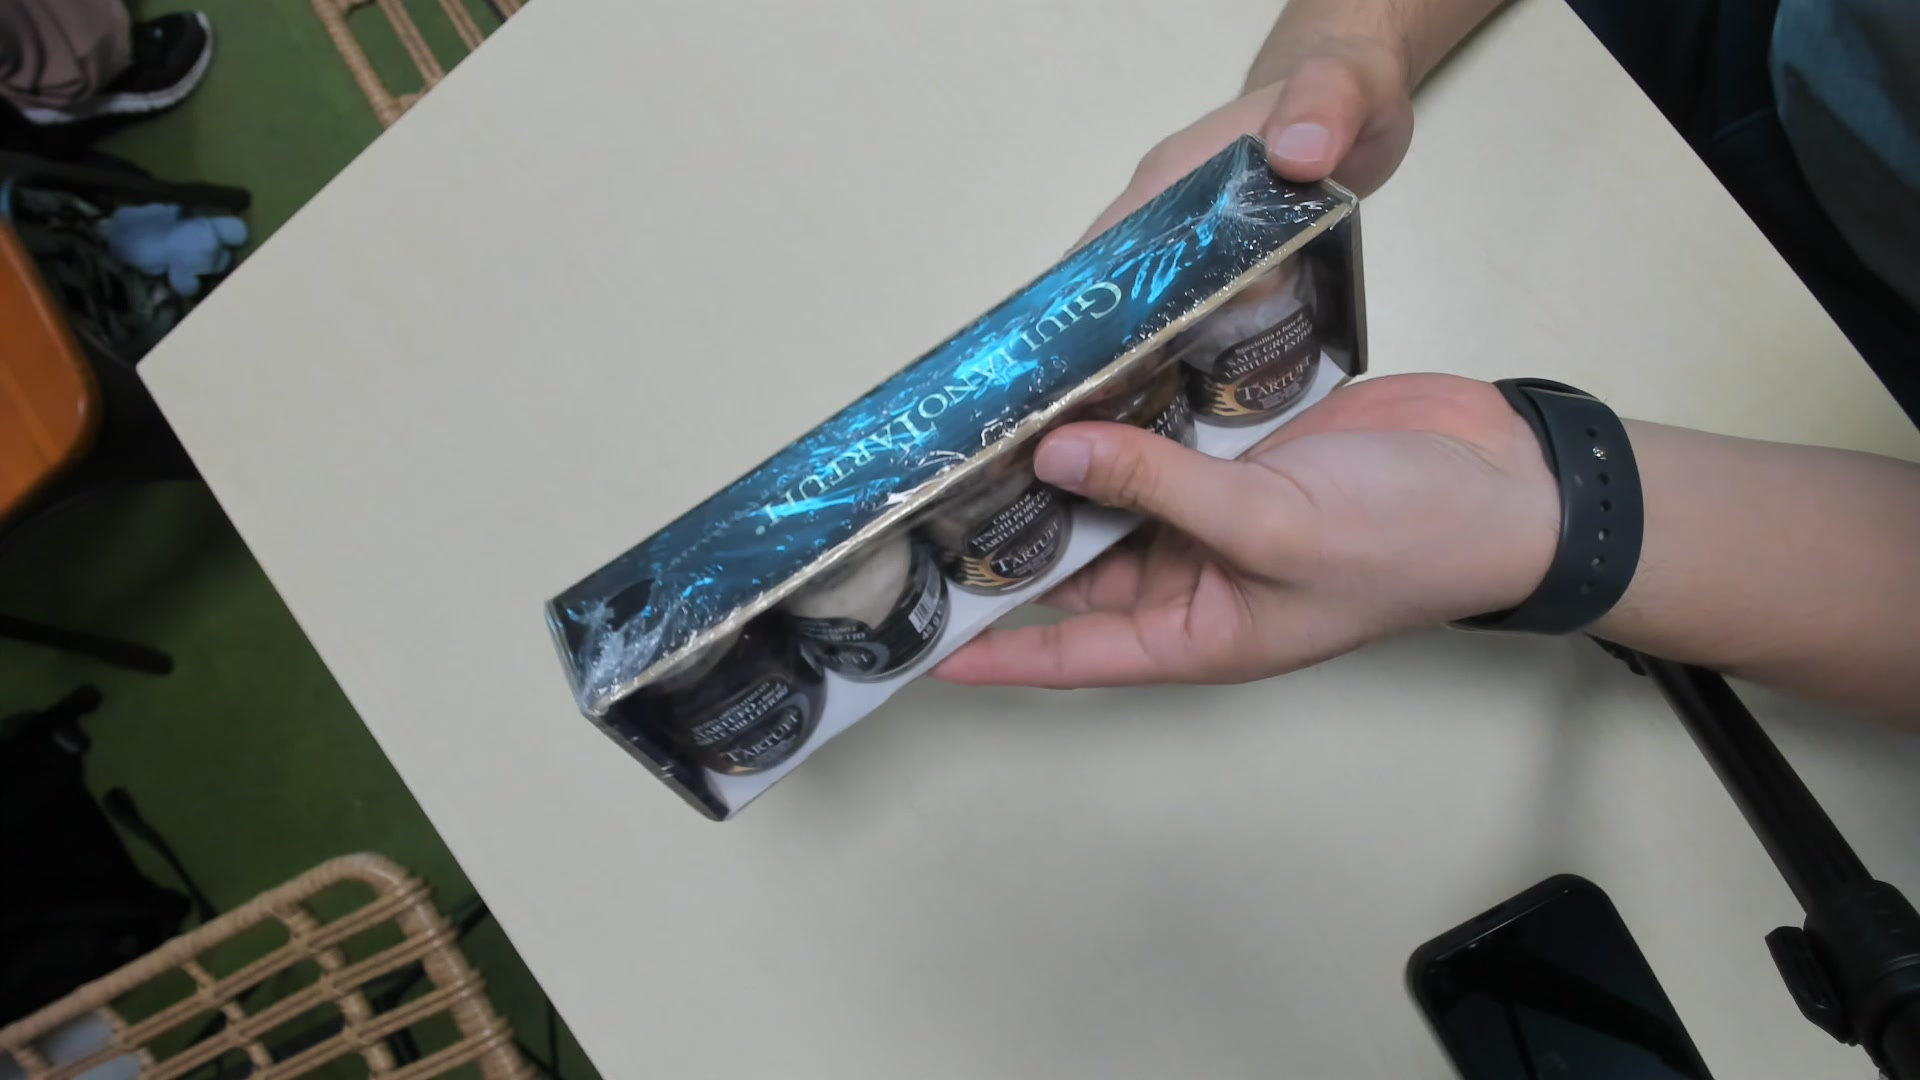OtherSauceDressing_500-599g_NonHalal_NonHealthy: (545, 133, 1377, 818)
